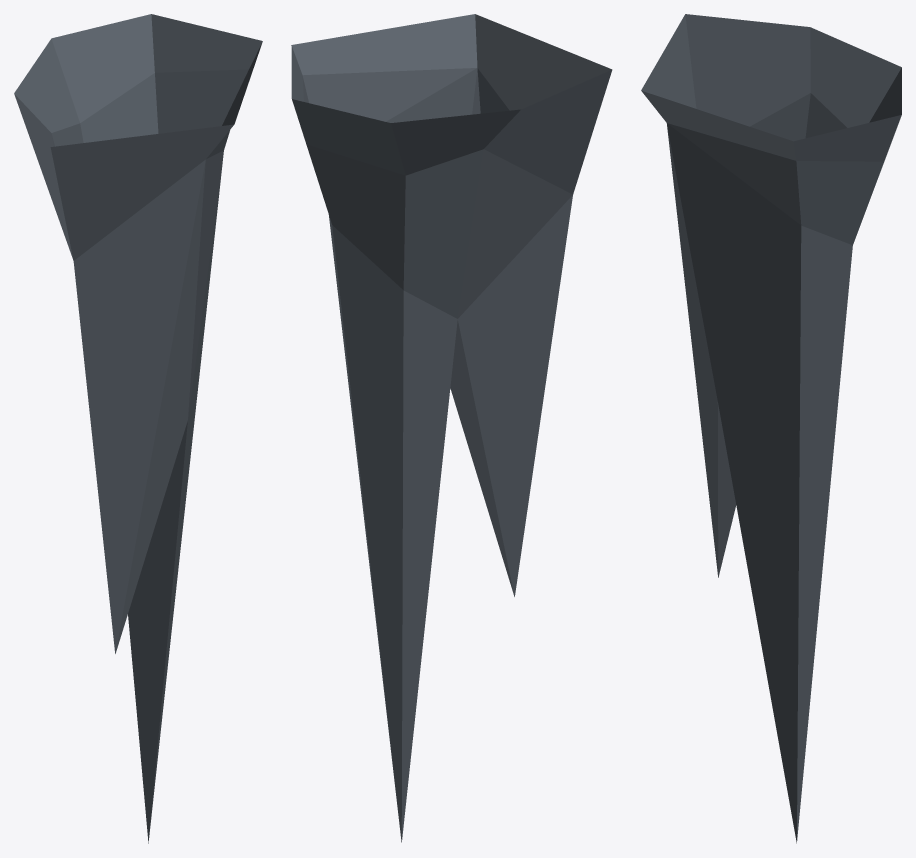
The model's file is Stalacmite-C07.fbx.
3 views of the same model, side by side, from view 1: azimuth 30°, elevation 25°; view 2: azimuth 150°, elevation 25°; view 3: azimuth 270°, elevation 25° (orthographic). The views are drawn at different scales.
Visible parts, largest first — view 1: Stalacmite-C07; view 2: Stalacmite-C07; view 3: Stalacmite-C07.
Boxes of the visible parts, x1,y1,x2,y2 form: Stalacmite-C07: (14, 14, 262, 843); Stalacmite-C07: (291, 14, 612, 842); Stalacmite-C07: (641, 14, 901, 843).
Bounding box in the file's own units: 99.61 × 276 × 86.27.
